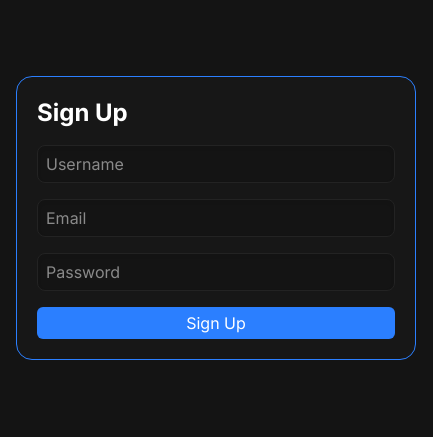
SignUp › should return validation error messages on submittion empty form
What coordinates should you click on to do the following:
click the button
I would click on:
 (216, 323)
Its box is [37,307,395,339].
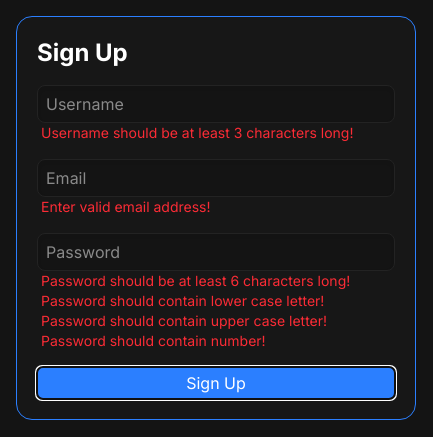
Expected: the text "Username should be at least 3 characters long!" is shown, [37,123,395,143]
Expected: the text "Enter valid email address!" is shown, [41,198,210,215]
Expected: the text "Password should be at least 6 characters long!" is shown, [37,271,395,291]
